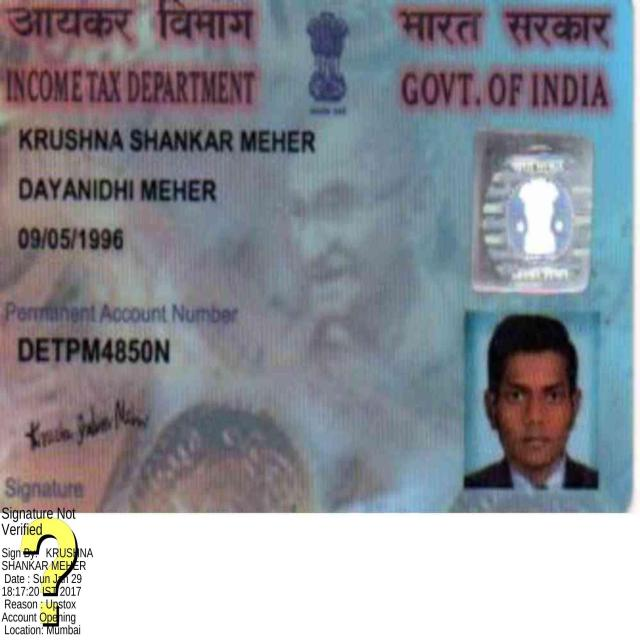pan_card: (0, 0, 631, 510)
